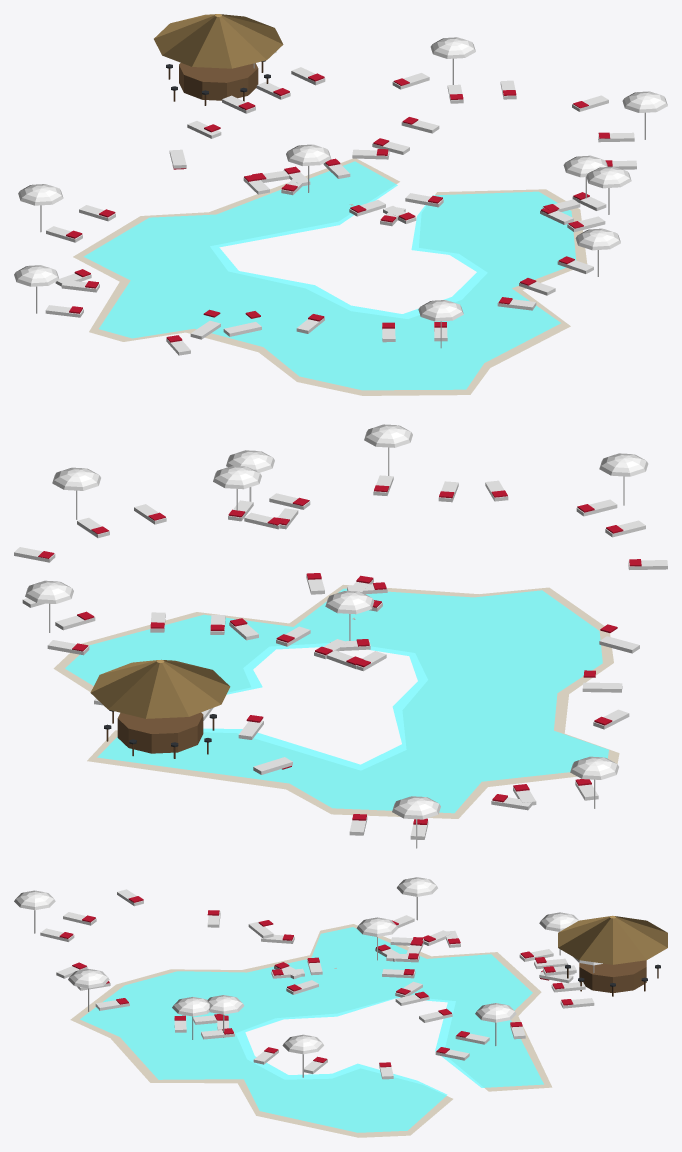
Rendered from barcelopool.glb.
The picture shows the model from 3 angles, top to bottom: view 1: azimuth 30°, elevation 25°; view 2: azimuth 150°, elevation 25°; view 3: azimuth 270°, elevation 25°; orthographic projection. The views are drawn at different scales.
Visible parts, largest first — view 1: barcelopool_lod0; view 2: barcelopool_lod0; view 3: barcelopool_lod0.
Boxes of the visible parts, box(x1,y1,x2,y2) form: barcelopool_lod0: box(14, 14, 667, 395); barcelopool_lod0: box(14, 424, 667, 848); barcelopool_lod0: box(14, 877, 667, 1137).
Size of what is drawn, in the model's own units: 37.27 by 8.88 by 40.69.
